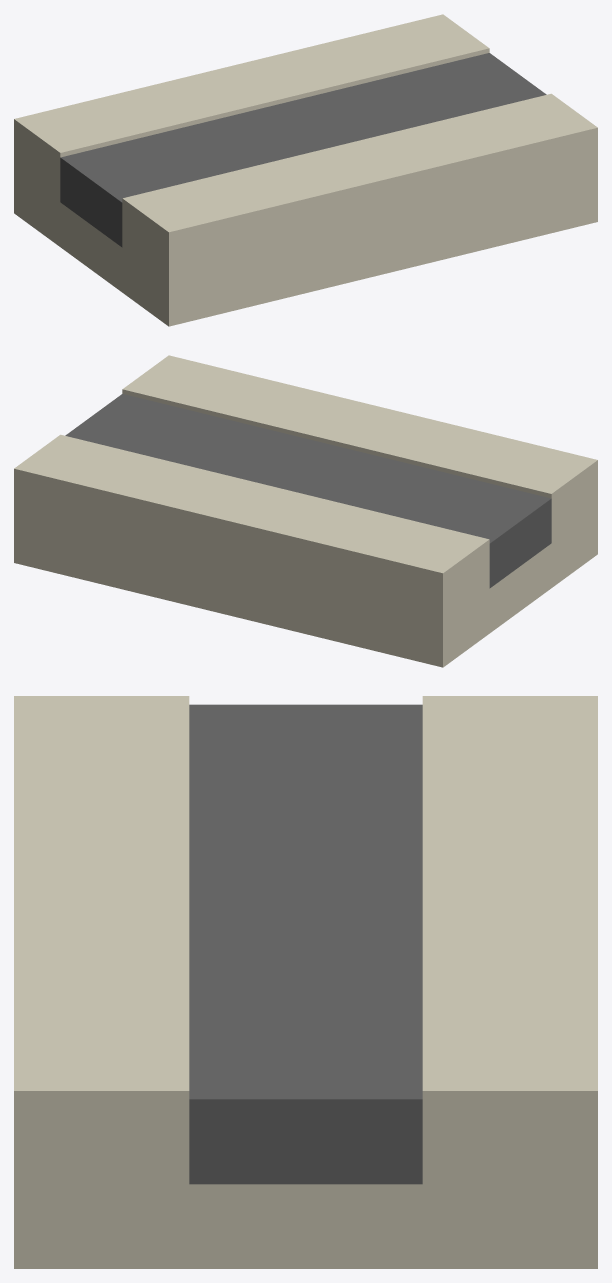
File: road-thin-one-way-stone.obj
3 renders of one model, top to bottom at view 1: azimuth 30°, elevation 25°; view 2: azimuth 150°, elevation 25°; view 3: azimuth 270°, elevation 25°, orthographic. The views are drawn at different scales.
Visible parts, largest first — view 1: Mesh1_Group1_Model.276; view 2: Mesh1_Group1_Model.276; view 3: Mesh1_Group1_Model.276.
Boxes of the visible parts, x1,y1,x2,y2 form: Mesh1_Group1_Model.276: (14,14,597,326); Mesh1_Group1_Model.276: (14,355,597,667); Mesh1_Group1_Model.276: (14,696,597,1268).
Size of the model in its own units: 3 by 0.63 by 1.88.
